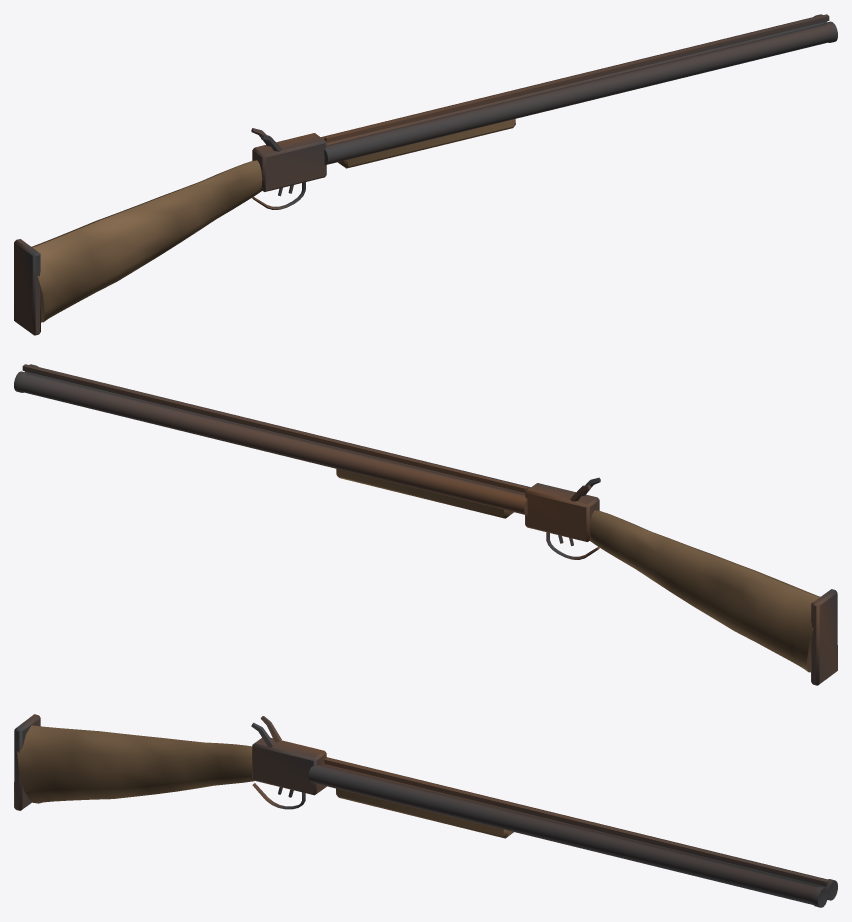
File: shotgun.glb
3 views of the same model, one above another, from view 1: azimuth 30°, elevation 25°; view 2: azimuth 150°, elevation 25°; view 3: azimuth 330°, elevation 25° (orthographic).
Visible parts, largest first — view 1: shotgun; view 2: shotgun; view 3: shotgun.
Part boxes in pixels (x1,y1,x2,y2): shotgun: [14, 14, 837, 335]; shotgun: [14, 364, 837, 685]; shotgun: [14, 714, 837, 907].
Size of the model in its own units: 1.12 by 0.1875 by 0.057.
